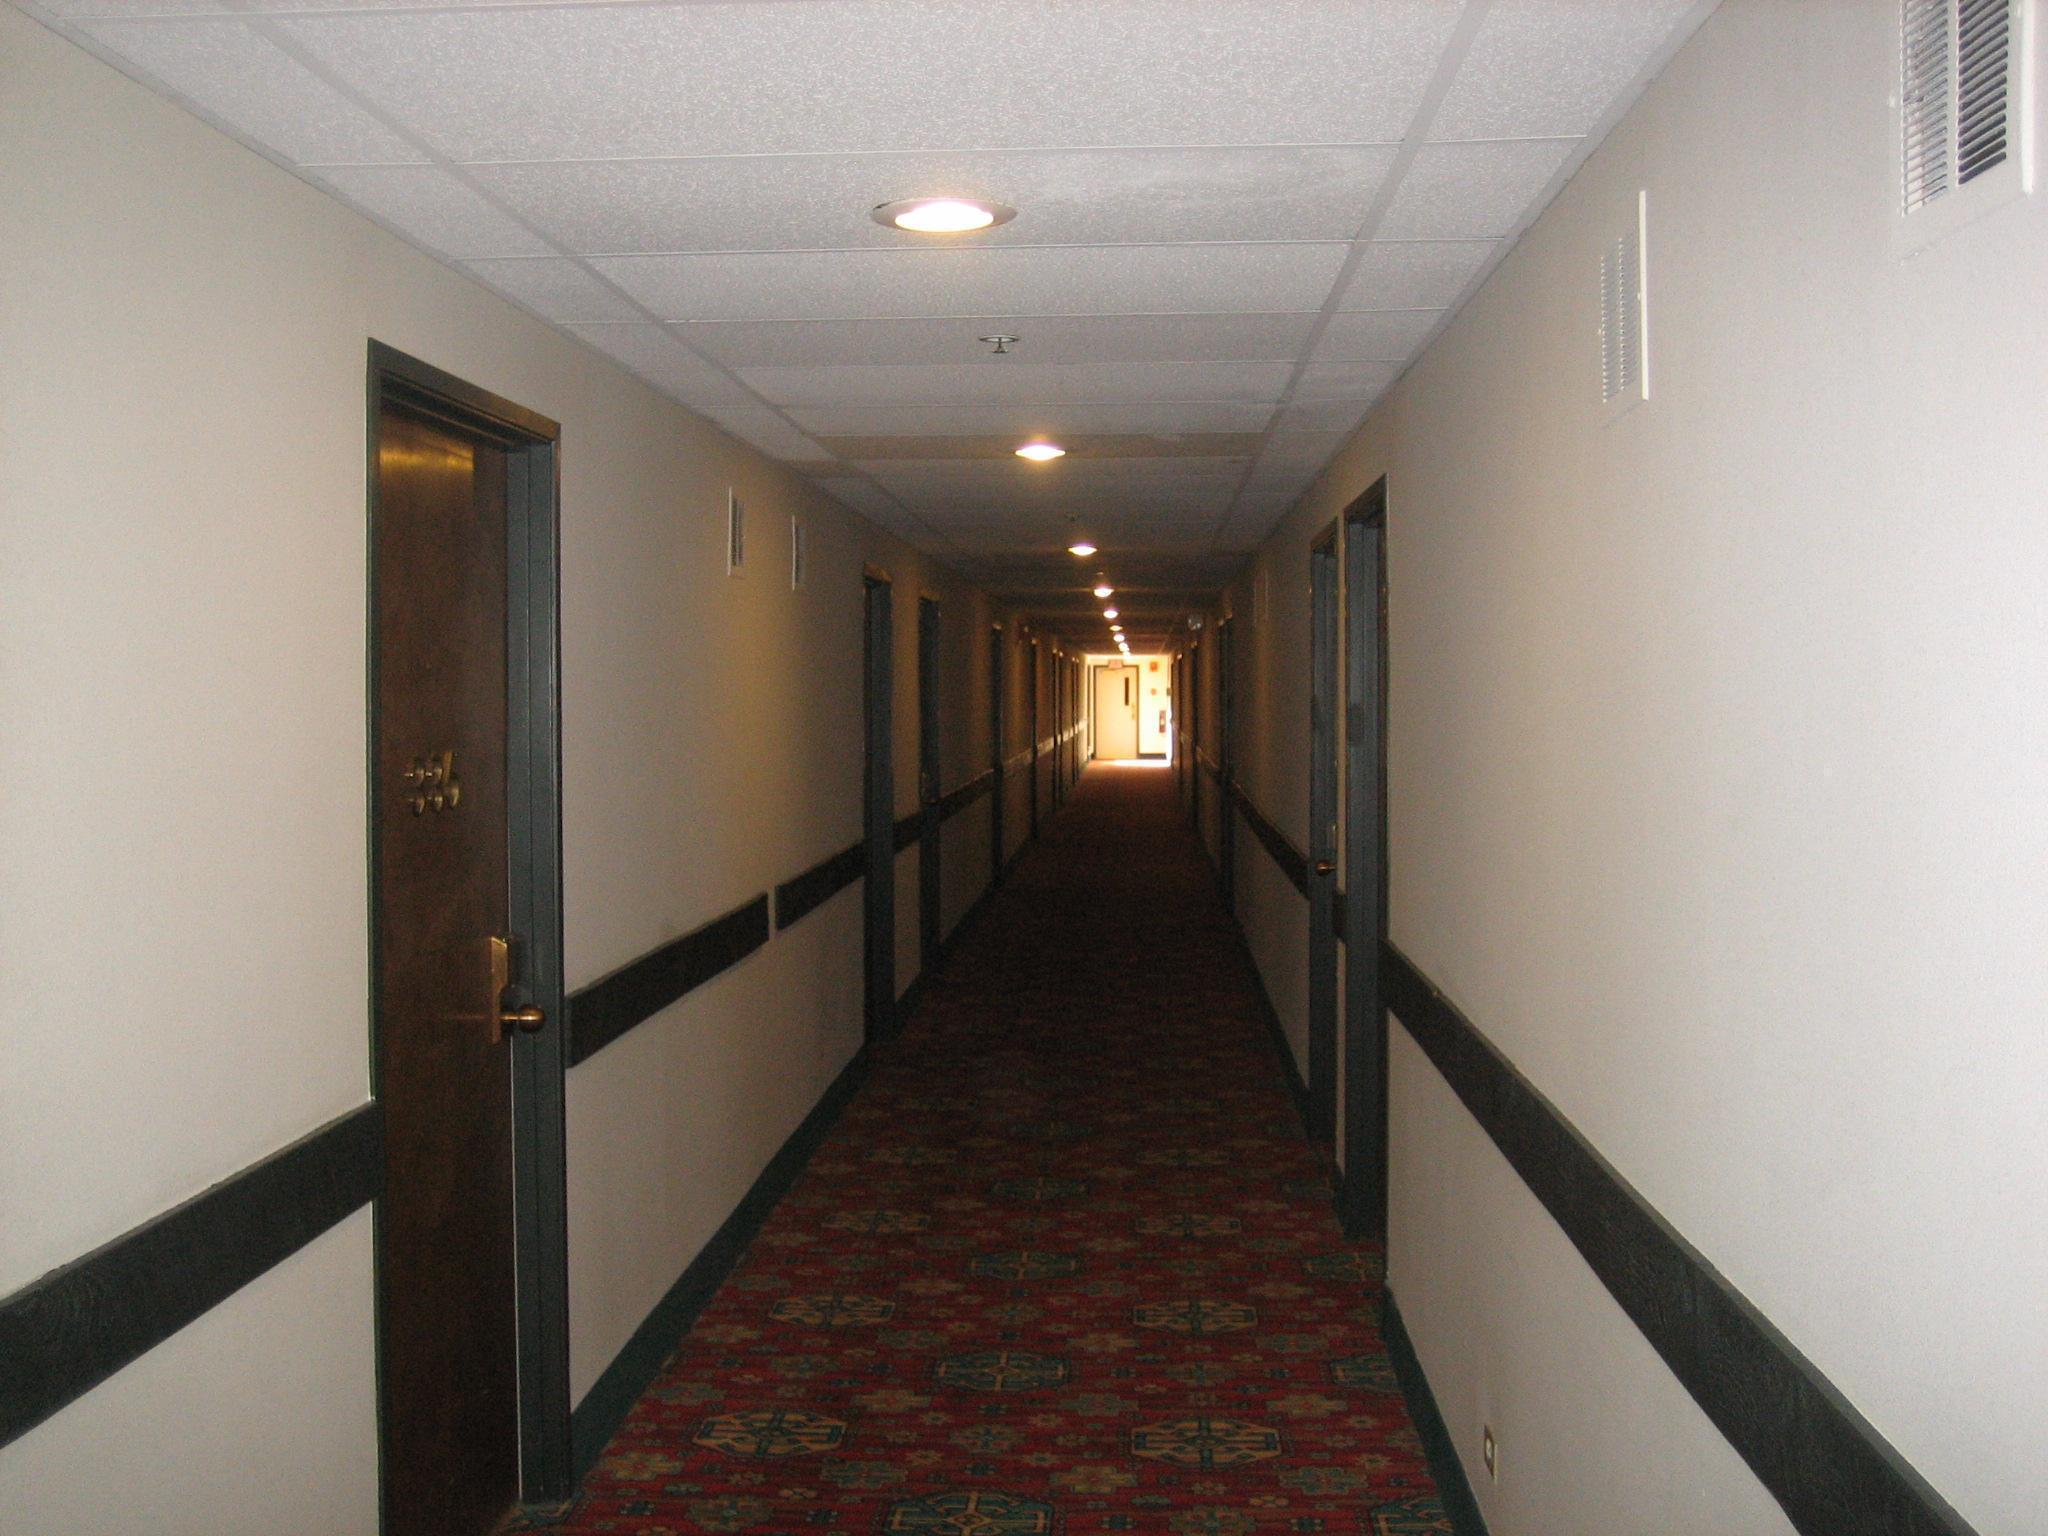Puerta: (373, 415, 537, 1505), (1335, 520, 1398, 1233), (1306, 532, 1342, 1133), (863, 570, 893, 1039)
